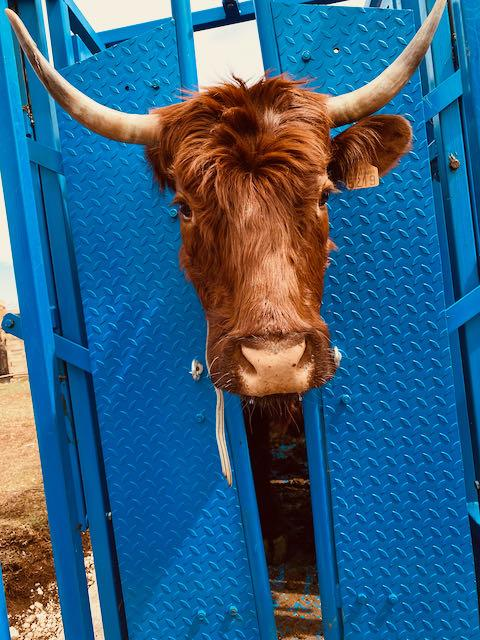muzzles: (201, 331, 342, 403)
